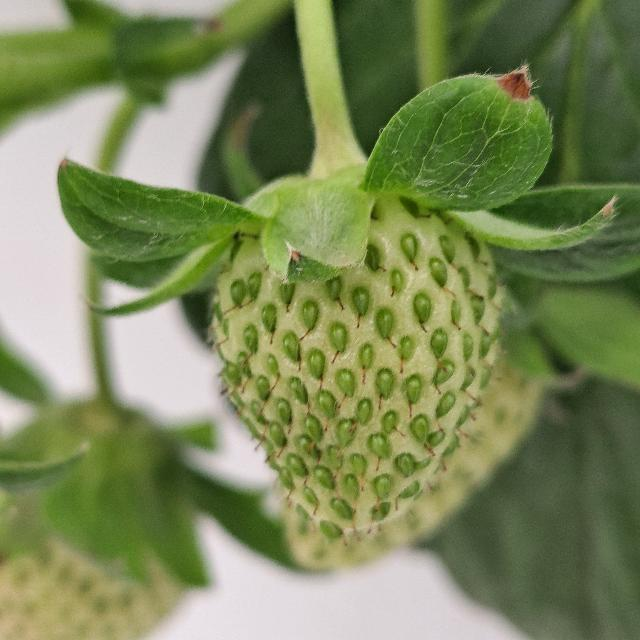Health_25: (210, 195, 502, 539)
